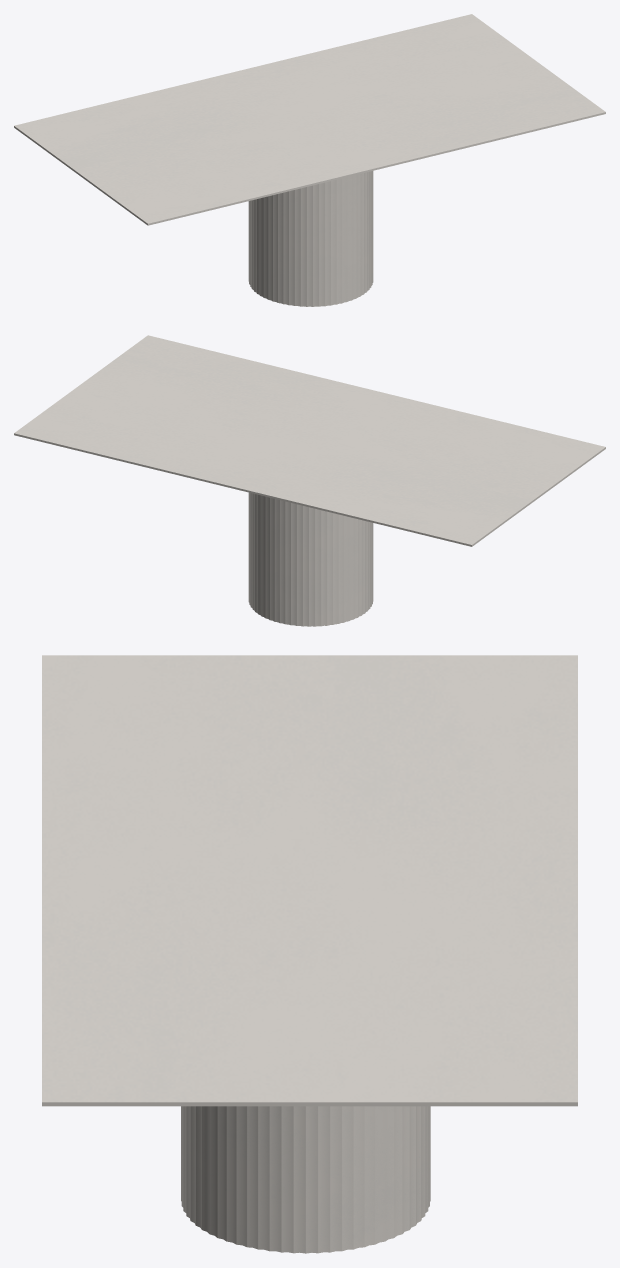
Rendered from pearlwhite_recta_facet_ripple.glb.
3 views of the same model, one above another, from view 1: azimuth 30°, elevation 25°; view 2: azimuth 150°, elevation 25°; view 3: azimuth 270°, elevation 25° (orthographic). The views are drawn at different scales.
Parts seen in each view (by area): view 1: facet_recta, ripple; view 2: facet_recta, ripple; view 3: facet_recta, ripple.
Part boxes in pixels (box(x1,y1,x2,y2)): facet_recta: box(14, 14, 605, 225); ripple: box(248, 171, 373, 306); facet_recta: box(14, 335, 605, 546); ripple: box(248, 492, 373, 626); facet_recta: box(42, 655, 577, 1106); ripple: box(181, 1106, 430, 1253).
Size of the model in its own units: 7.5 by 2.52 by 3.8.
Materials: 1 (1 with a texture image).
